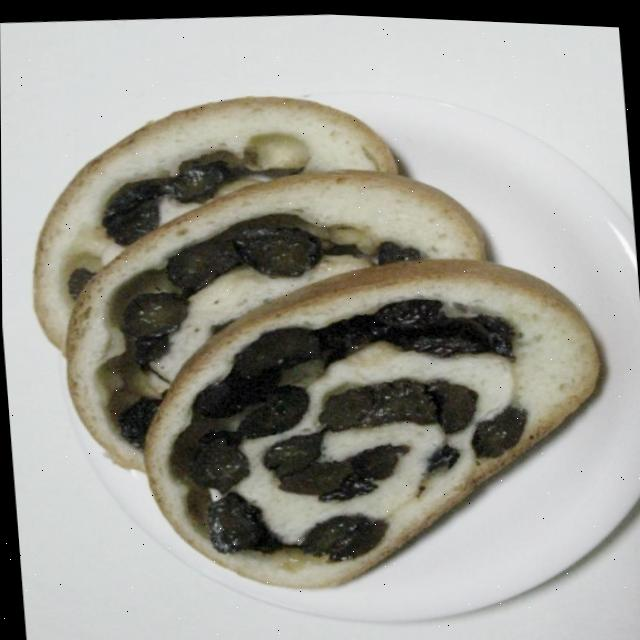面包点心: (0, 49, 620, 624)
